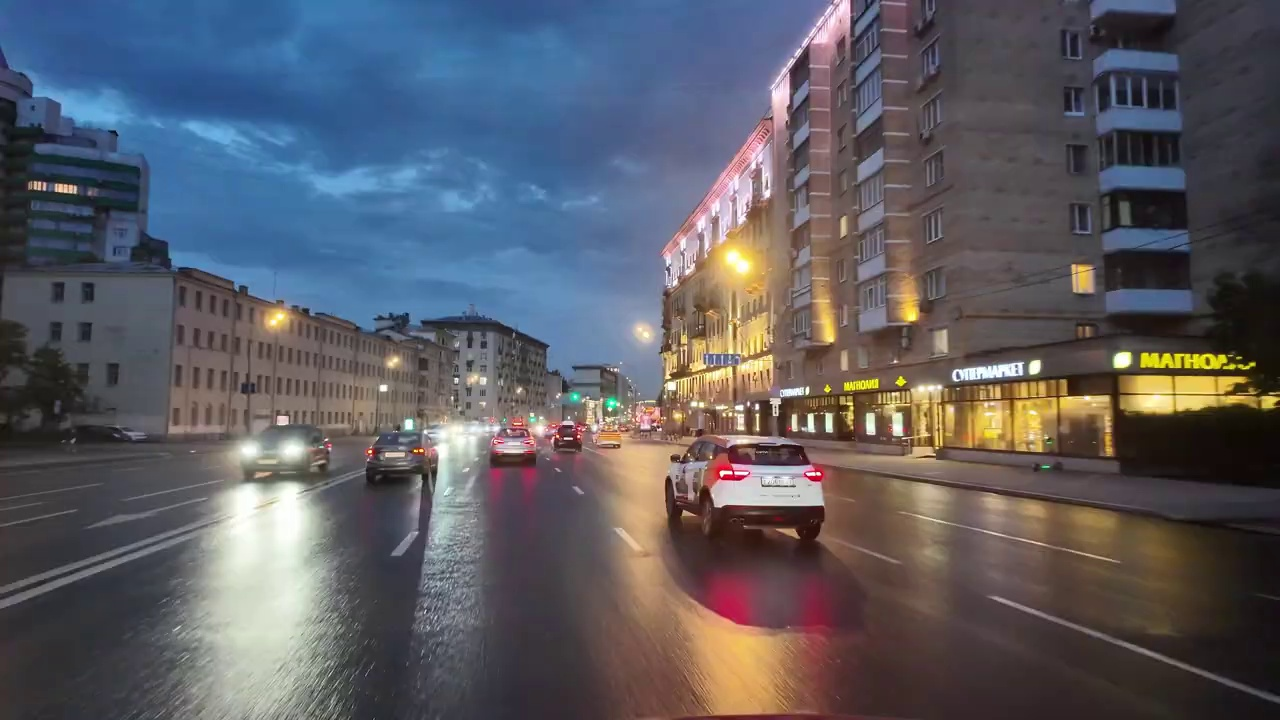acesa: (719, 245, 759, 285), (262, 307, 292, 333), (632, 321, 656, 345)
